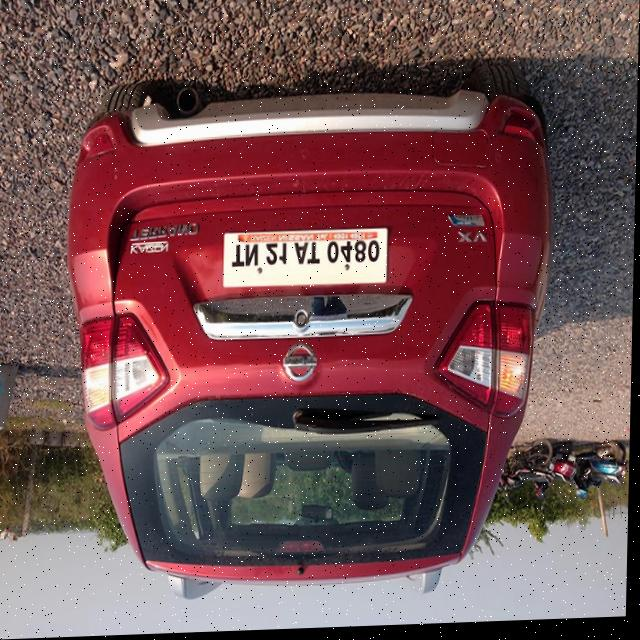plate: (222, 229, 391, 293)
